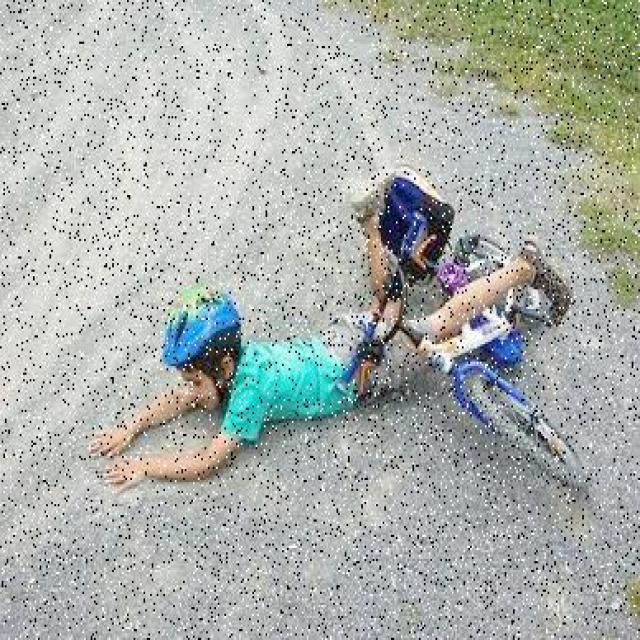fall: (91, 246, 511, 494)
